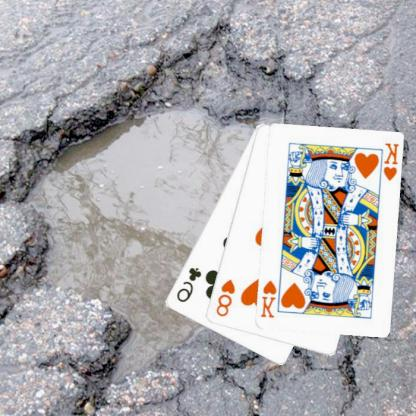8H: (214, 276, 238, 318)
9C: (176, 264, 204, 304)
KH: (382, 140, 401, 183), (260, 278, 279, 319)
